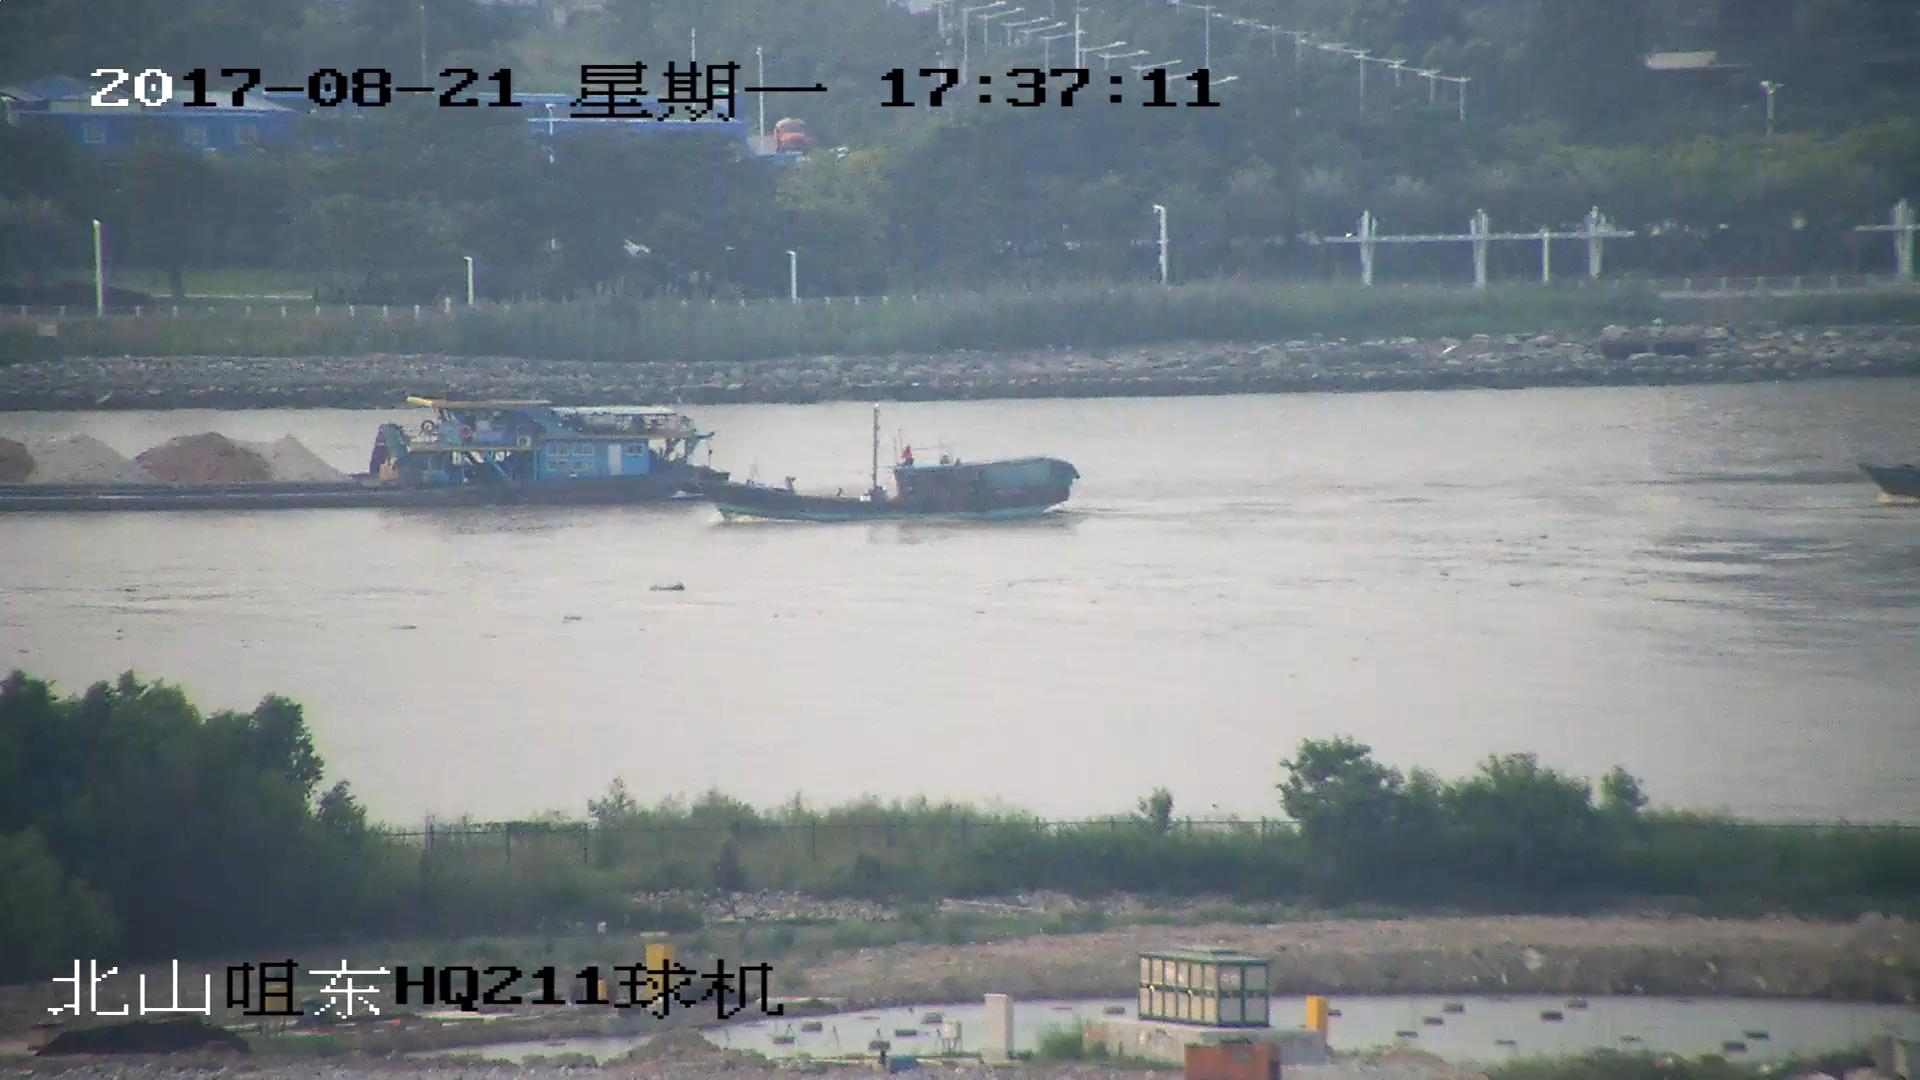fishing boat: (669, 408, 1079, 526)
ore carrier: (1, 394, 722, 506)
